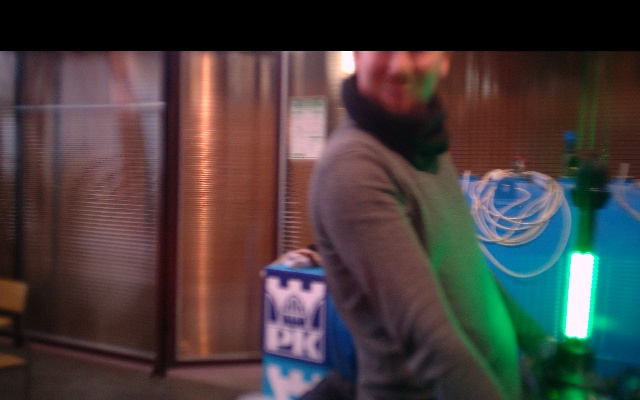green: (561, 252, 597, 343)
